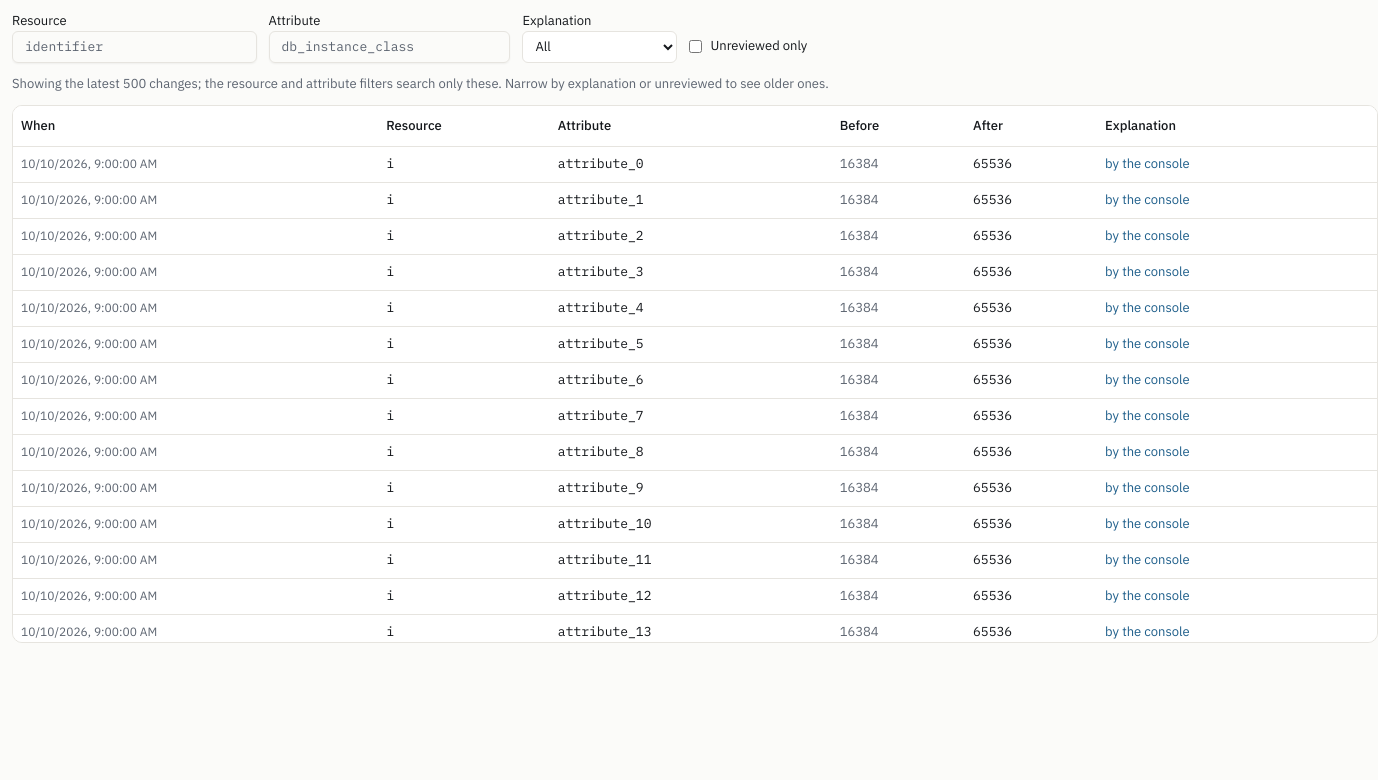
Scenario: ChangesView › says when the answer is capped, so the filters are known to search only the latest changes
Expected: the message shows "Showing the latest 500 changes; the resource and attribute filters search only these. Narrow by explanation or unreviewed to see older ones.", [12,75,829,92]
In the field labelled "Attribute": coordinates (390, 47) [269,31,510,63], type "no-such-attribute"
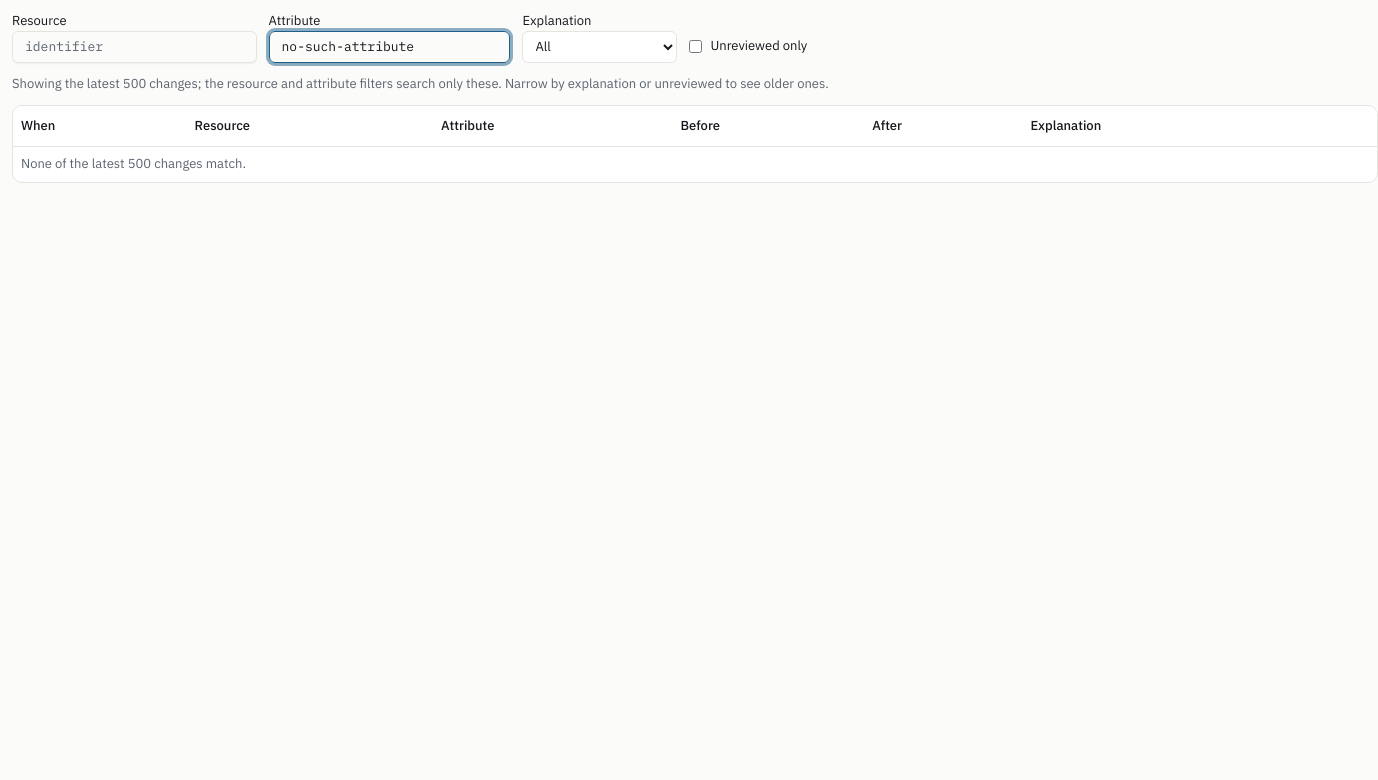
Now the text "None of the latest 500 changes match." is shown, box [13,146,1377,182]
